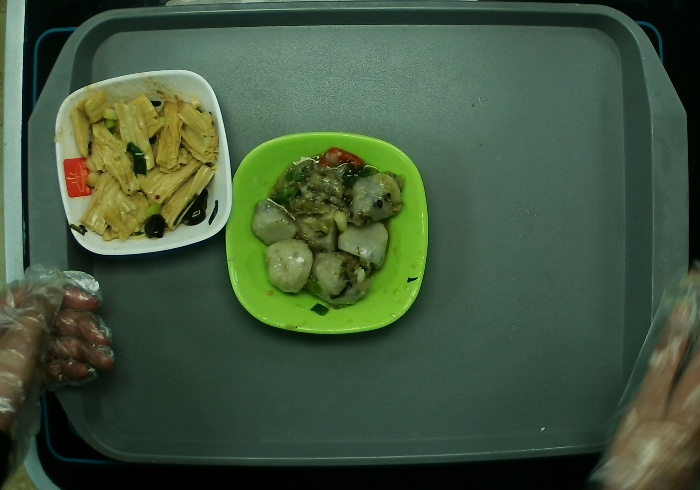SHKJ-Bai_Se_Xiao_Fang_Die: (54, 68, 232, 257)
SHKJ-Lv_Se_Cai_Die: (227, 132, 430, 336)
